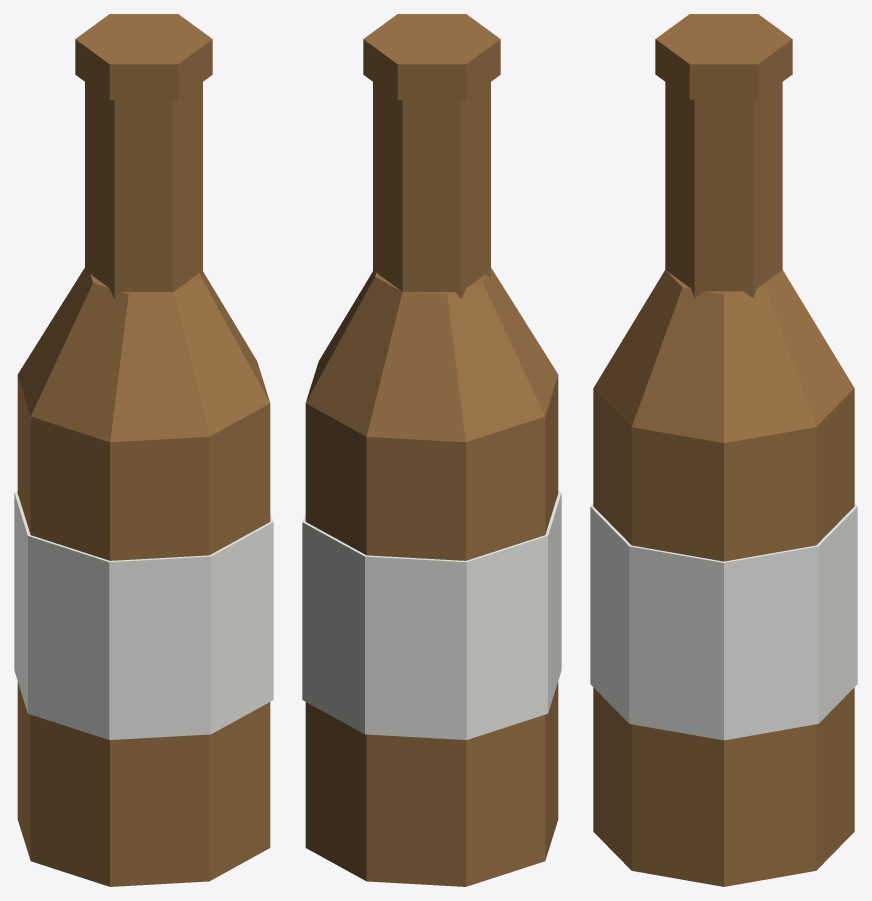
The model's file is beer.glb.
3 views of the same model, side by side, from view 1: azimuth 30°, elevation 25°; view 2: azimuth 150°, elevation 25°; view 3: azimuth 270°, elevation 25° (orthographic).
Parts seen in each view (by area): view 1: beer; view 2: beer; view 3: beer.
Boxes of the visible parts, x1,y1,x2,y2 form: beer: (14,14,273,886); beer: (302,14,561,886); beer: (590,14,857,886).
Size of the model in its own units: 0.082 by 0.268 by 0.082.
